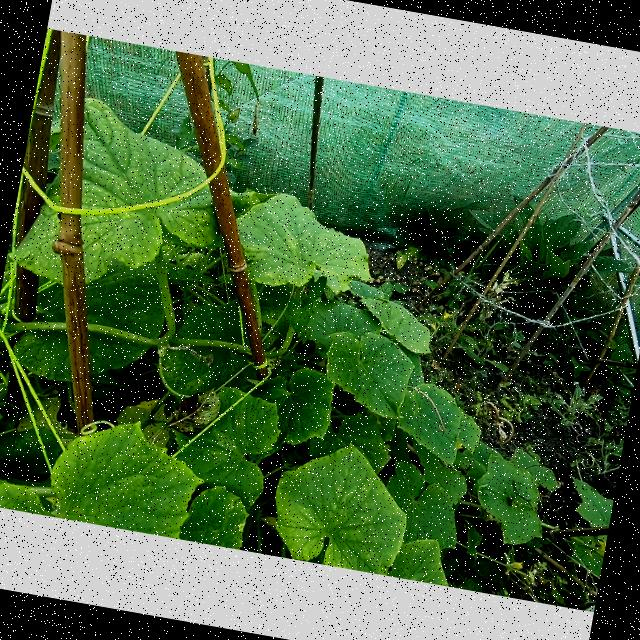Flowers: (442, 310, 449, 322)
